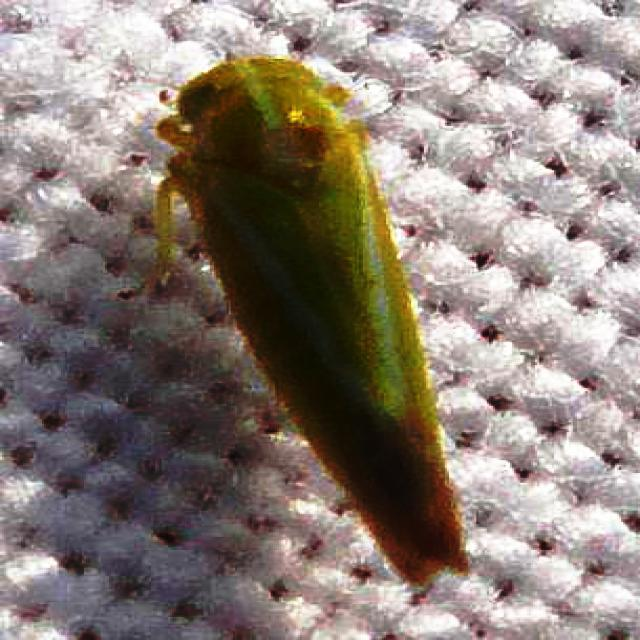green-leafhopper: (152, 59, 468, 583)
